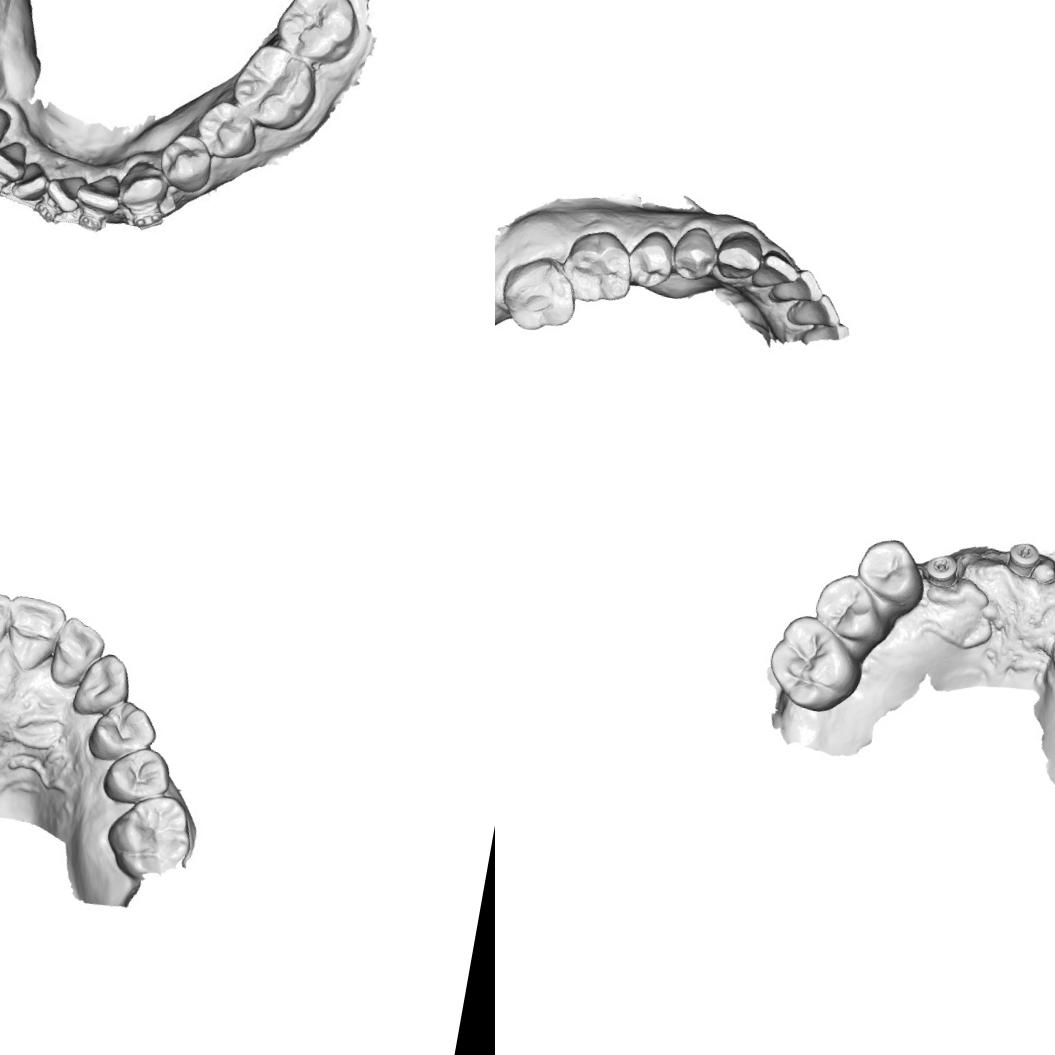canine: (68, 647, 137, 723), (709, 224, 766, 284), (113, 156, 170, 213), (0, 98, 12, 155)
implant_minus: (1002, 538, 1044, 581)
implant_plus: (914, 539, 966, 594)
incisor: (0, 592, 68, 678), (46, 614, 108, 692), (784, 286, 844, 334), (768, 262, 826, 309), (747, 244, 801, 294), (73, 167, 127, 214), (39, 167, 90, 216), (4, 156, 51, 205), (0, 131, 29, 186), (0, 584, 15, 670)
molar: (759, 608, 870, 720), (99, 784, 198, 888), (225, 36, 324, 136), (495, 247, 584, 338), (557, 222, 640, 310), (269, 0, 367, 69)
premolar: (808, 568, 890, 650), (850, 532, 932, 614), (82, 694, 162, 769), (98, 740, 174, 810), (190, 95, 262, 165), (151, 128, 216, 196), (621, 224, 681, 293), (667, 220, 722, 284)
